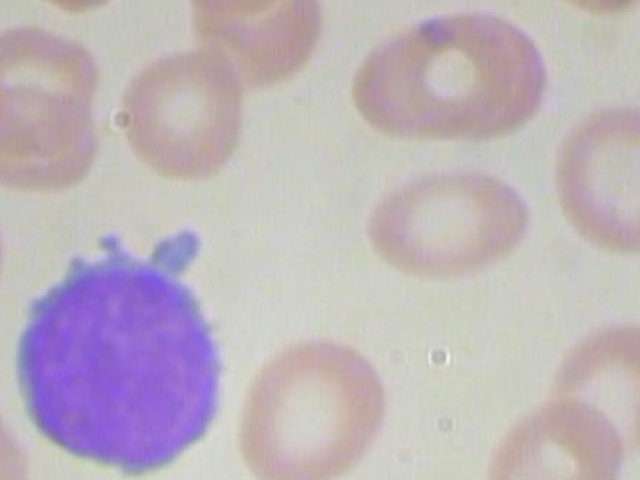RBC: (224, 330, 396, 480), (343, 5, 518, 146), (361, 150, 535, 279), (112, 41, 259, 186), (0, 17, 110, 154), (552, 98, 640, 264), (545, 319, 640, 459), (469, 397, 627, 480), (149, 0, 302, 20), (0, 394, 25, 480), (527, 0, 640, 19), (0, 0, 141, 14), (0, 0, 5, 26)
WBC: (0, 209, 249, 480)
